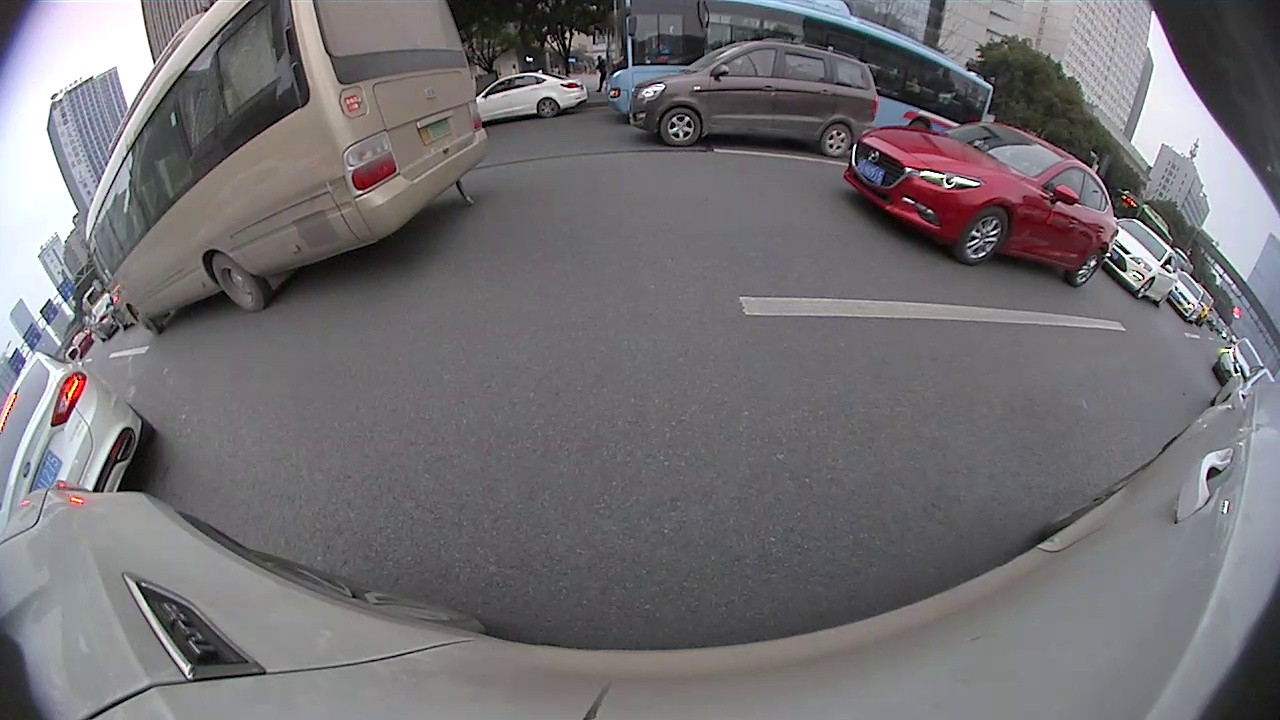bus: (86, 1, 484, 334), (603, 1, 993, 169)
car: (847, 123, 1115, 286), (631, 43, 876, 147), (1, 353, 152, 521), (1103, 220, 1173, 305), (475, 74, 588, 123)
front: (961, 205, 1014, 265), (662, 106, 703, 146), (128, 304, 163, 339), (1136, 278, 1155, 300)
rear: (210, 250, 267, 314), (1071, 247, 1106, 286), (823, 123, 851, 159), (538, 98, 559, 117)
